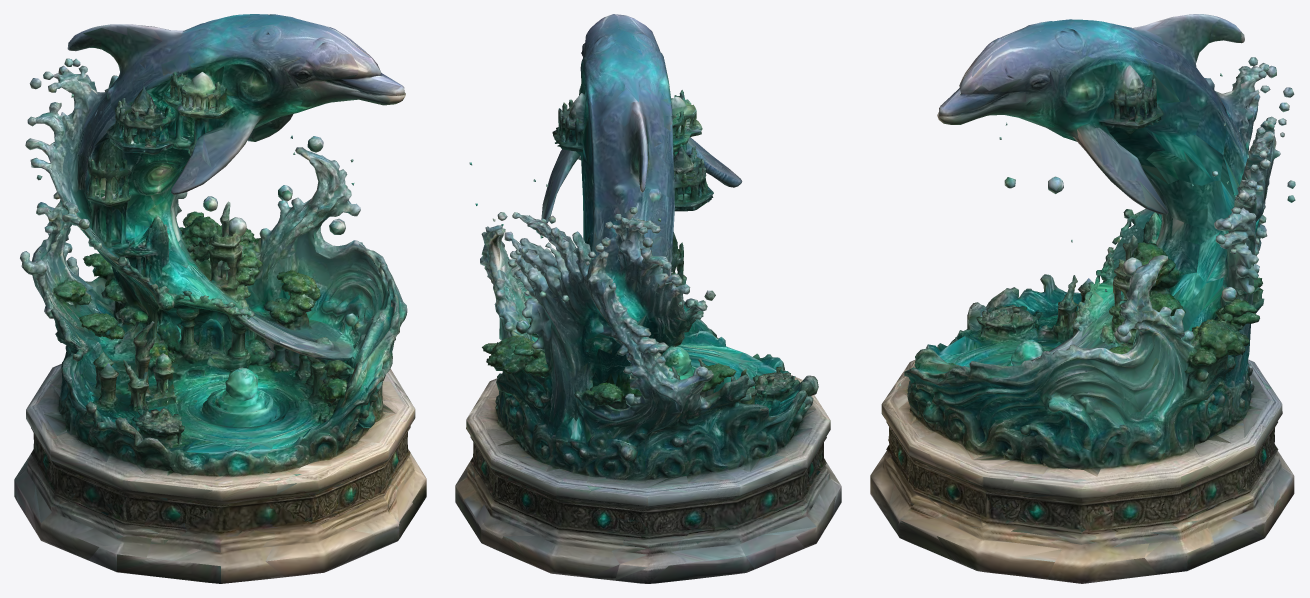
The model's file is Emerald_Dolphin_and_t.glb.
3 views of the same model, side by side, from view 1: azimuth 30°, elevation 25°; view 2: azimuth 150°, elevation 25°; view 3: azimuth 270°, elevation 25° (orthographic). The views are drawn at different scales.
Visible parts, largest first — view 1: Emerald_Dolphin_and_t; view 2: Emerald_Dolphin_and_t; view 3: Emerald_Dolphin_and_t.
Part boxes in pixels (left/top/right/bottom): Emerald_Dolphin_and_t: left=14, top=14, right=426, bottom=583; Emerald_Dolphin_and_t: left=455, top=14, right=841, bottom=583; Emerald_Dolphin_and_t: left=870, top=14, right=1295, bottom=583.
Size of the model in its own units: 1.49 by 1.9 by 1.5.
Materials: 1 (1 with a texture image).
